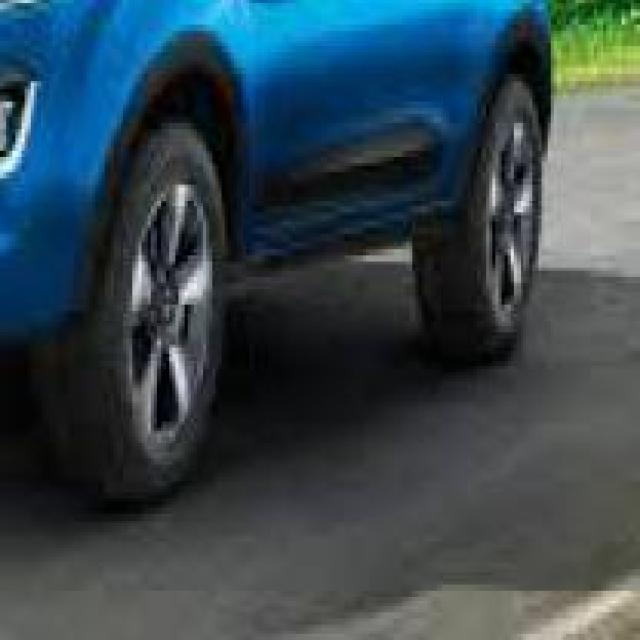car: (0, 0, 560, 517)
